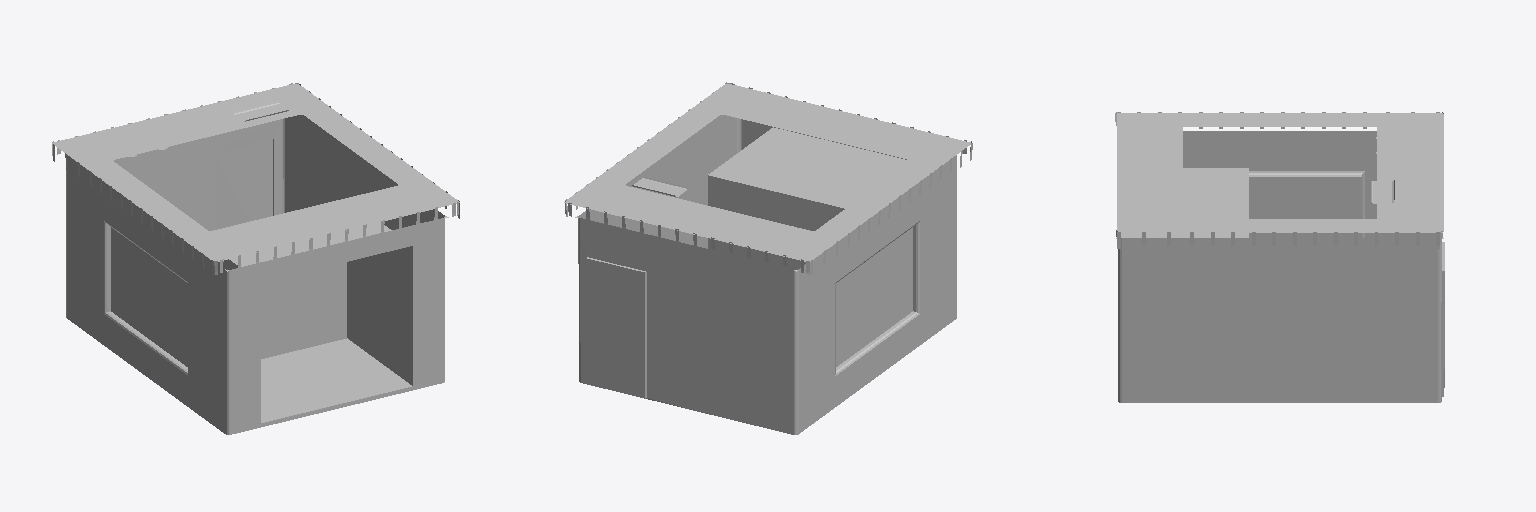
3 renders of one model, left to right at view 1: azimuth 30°, elevation 25°; view 2: azimuth 150°, elevation 25°; view 3: azimuth 270°, elevation 25°, orthographic.
Visible parts, largest first — view 1: Shop_Low_5; view 2: Shop_Low_5; view 3: Shop_Low_5.
Part boxes in pixels (left/top/right/bottom): Shop_Low_5: left=52, top=83, right=459, bottom=434; Shop_Low_5: left=564, top=82, right=972, bottom=434; Shop_Low_5: left=1115, top=112, right=1444, bottom=402.
Size of the model in its own units: 12.13 by 8.81 by 14.06.